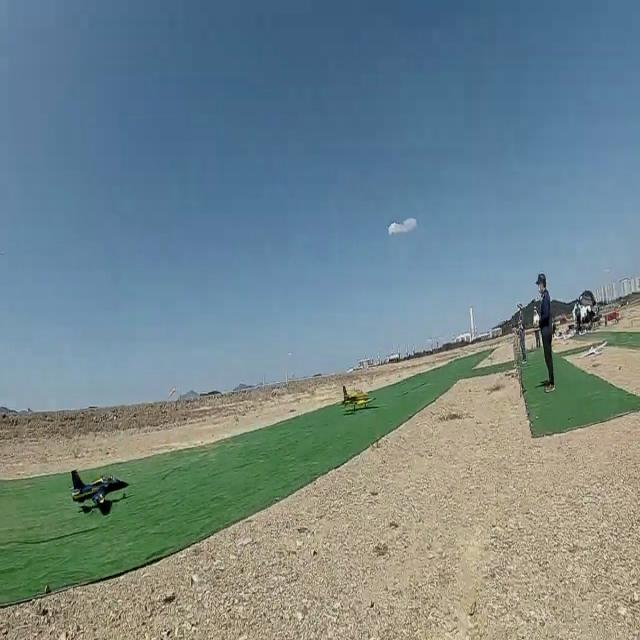iha: (5, 465, 68, 520), (341, 383, 377, 411)
